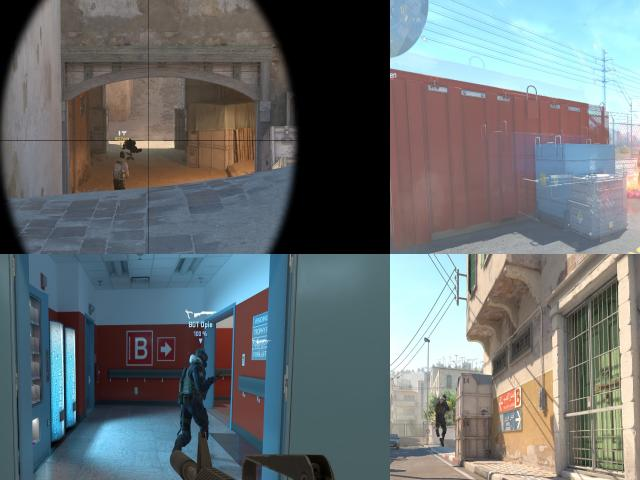CT: (186, 347, 210, 457), (435, 394, 447, 440)
CT-Head: (194, 348, 208, 365), (441, 395, 447, 400)
Dead: (122, 138, 142, 150)
T: (114, 150, 129, 190), (637, 150, 640, 184)
T-Head: (119, 151, 125, 159), (639, 150, 640, 157)
